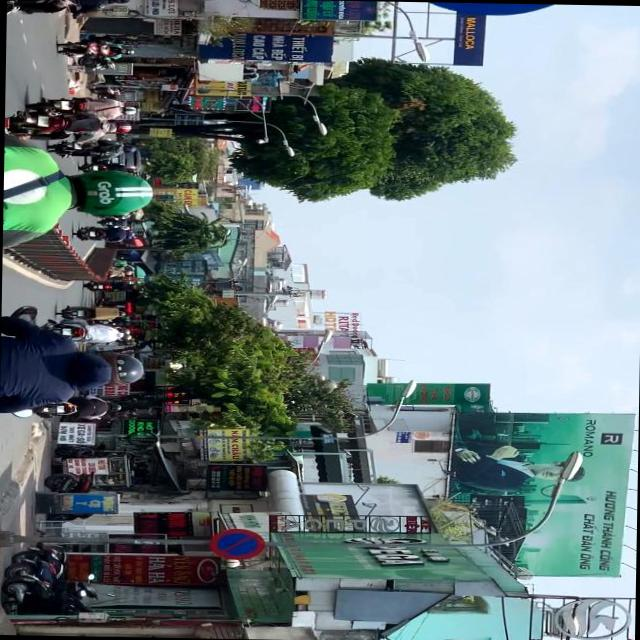P-131a: (208, 527, 266, 560)
